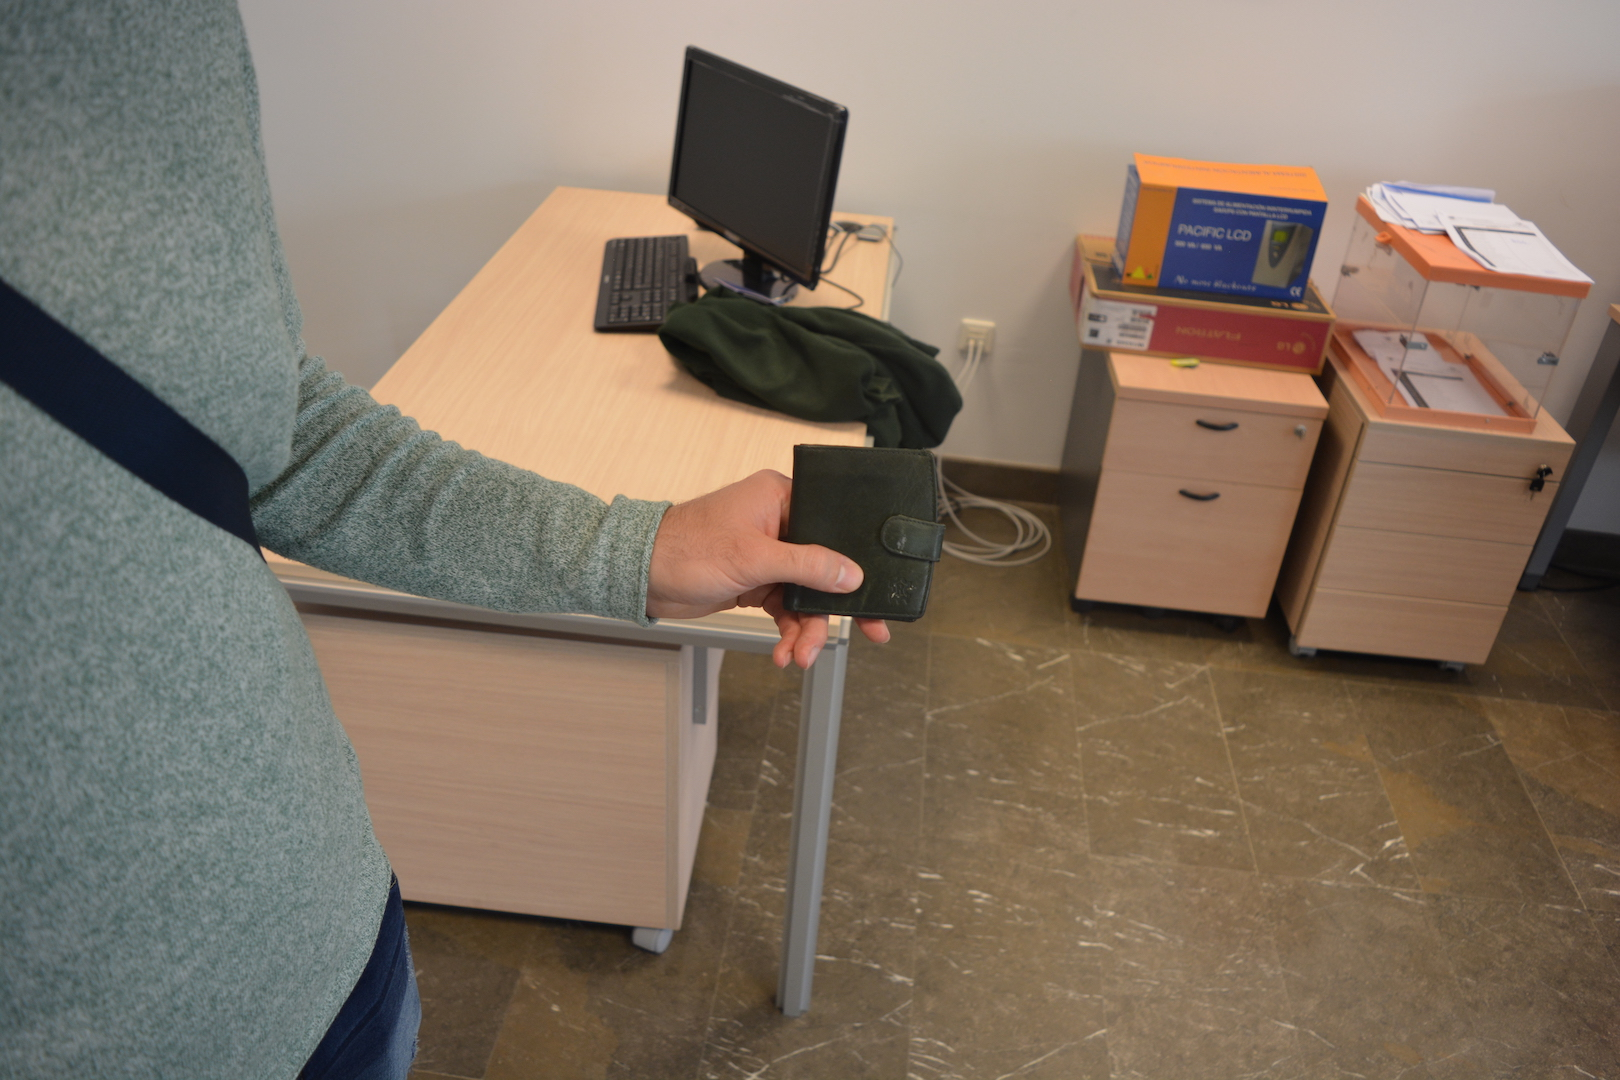monedero: (783, 441, 940, 624)
